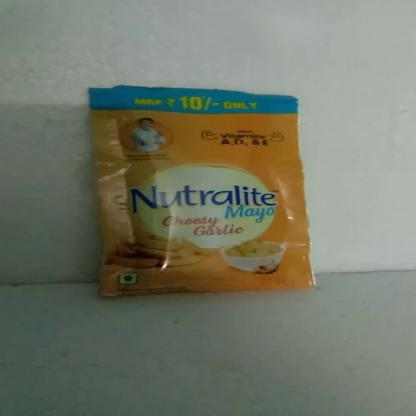Nutralite CHEESY GARLIC MAYO 30g: (101, 94, 296, 289)
